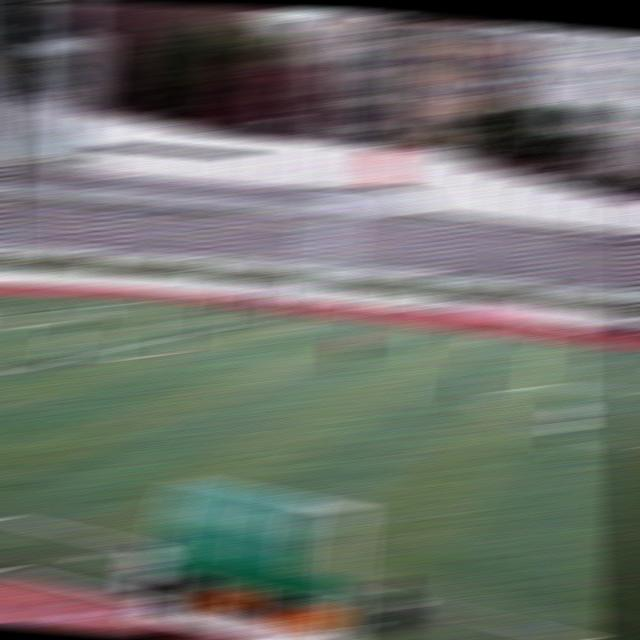bigarea_top_inner: (227, 319, 255, 331)
bigarea_top_outter: (83, 301, 111, 313)
bottom_arc_area_intersection: (58, 355, 81, 364)
smallarea_top_inner: (61, 316, 84, 324)
smallarea_top_outter: (10, 310, 36, 320)
